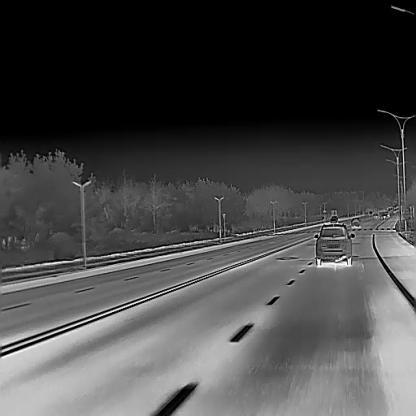car: (313, 222, 355, 265), (351, 217, 360, 226), (330, 214, 338, 222), (368, 210, 372, 215), (382, 213, 386, 218), (375, 213, 379, 217)
